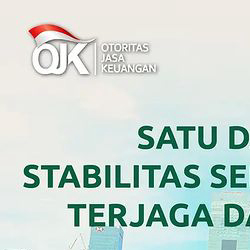ojk: (27, 23, 159, 73)
